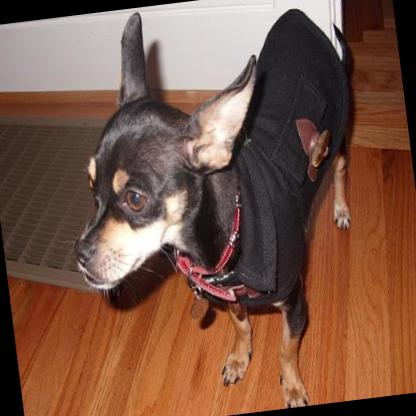miniature_pinscher: (45, 0, 392, 416)
